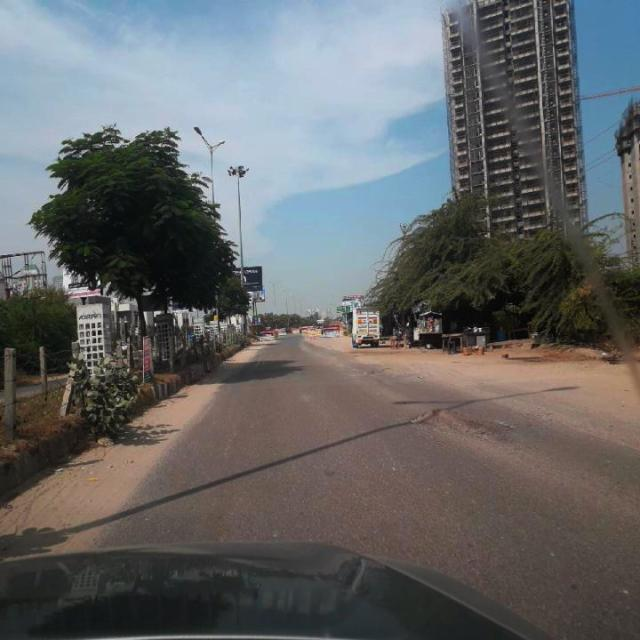D40: (403, 399, 525, 462)
